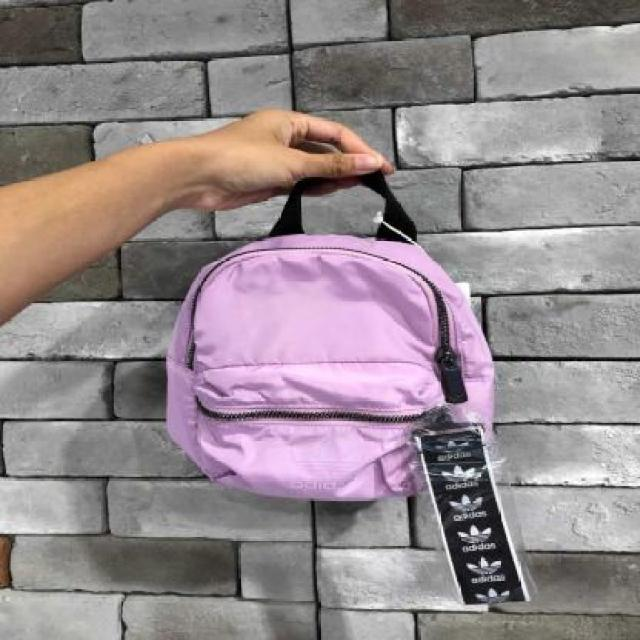Bag: (137, 116, 505, 510)
